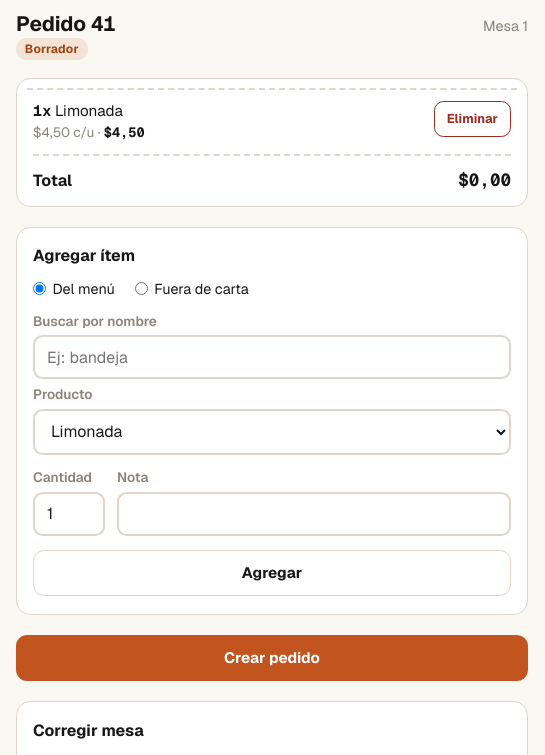
Test case: OrderBuilder (T66, RF-3/4/5/6/7) › removes an item from a draft without asking for a reason (RF-2)
Click the button "Eliminar" at coordinates (472, 119), box x1=434 y1=101 x2=511 y2=137
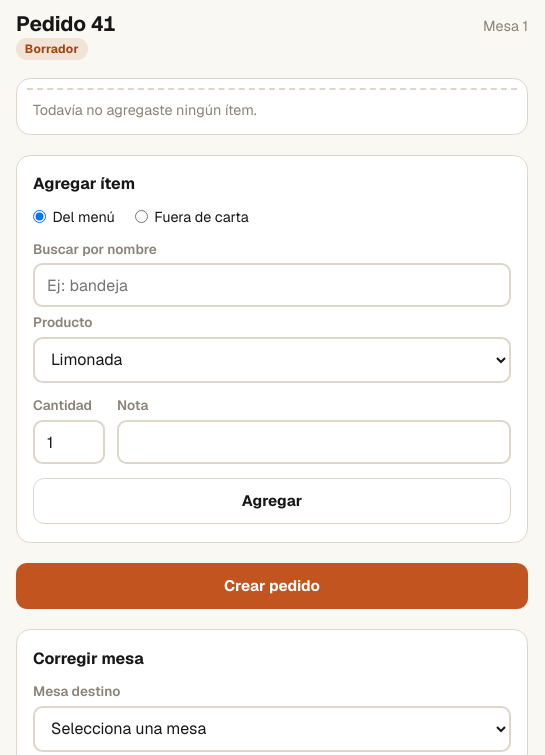
Expected: the text "Todavía no agregaste ningún ítem." is shown, x1=33 y1=101 x2=257 y2=119
